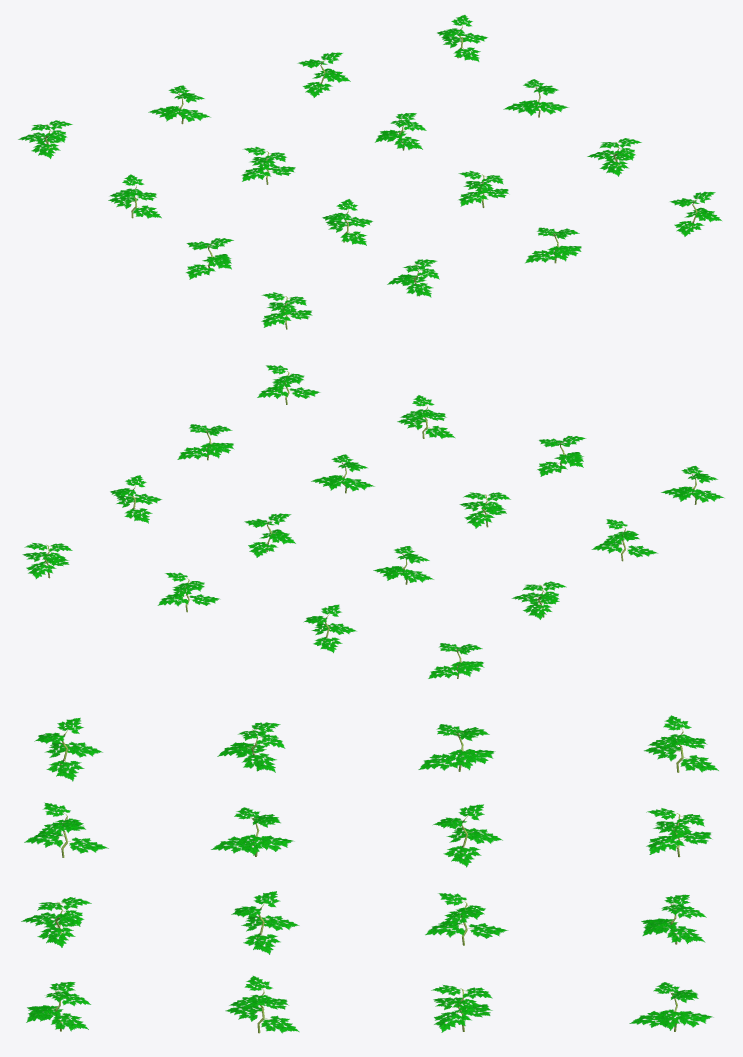
The model's file is tomato-stage1.glb.
3 renders of one model, top to bottom at view 1: azimuth 30°, elevation 25°; view 2: azimuth 150°, elevation 25°; view 3: azimuth 270°, elevation 25°, orthographic. The views are drawn at different scales.
Parts seen in each view (by area): view 1: Tomatoe_F1.001; view 2: Tomatoe_F1.001; view 3: Tomatoe_F1.001.
Part boxes in pixels (<box>): Tomatoe_F1.001: <box>18,15,721,329</box>; Tomatoe_F1.001: <box>22,365,724,678</box>; Tomatoe_F1.001: <box>21,715,718,1033</box>.
Size of the model in its own units: 1.8 by 0.1211 by 1.8.
1 material, 1 textured.
